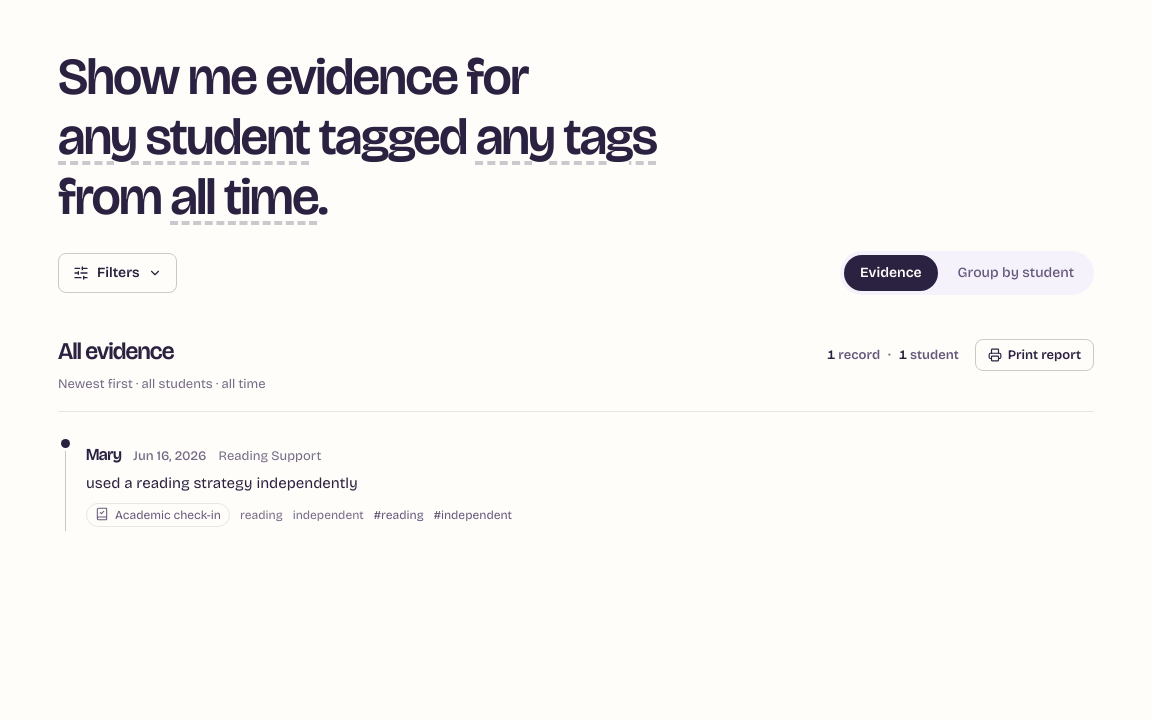
ExploreEvidencePage › collapses Without and returns focus to Tags
Click the button "Filters" at {"x": 117, "y": 273}, box [58,253,177,293]
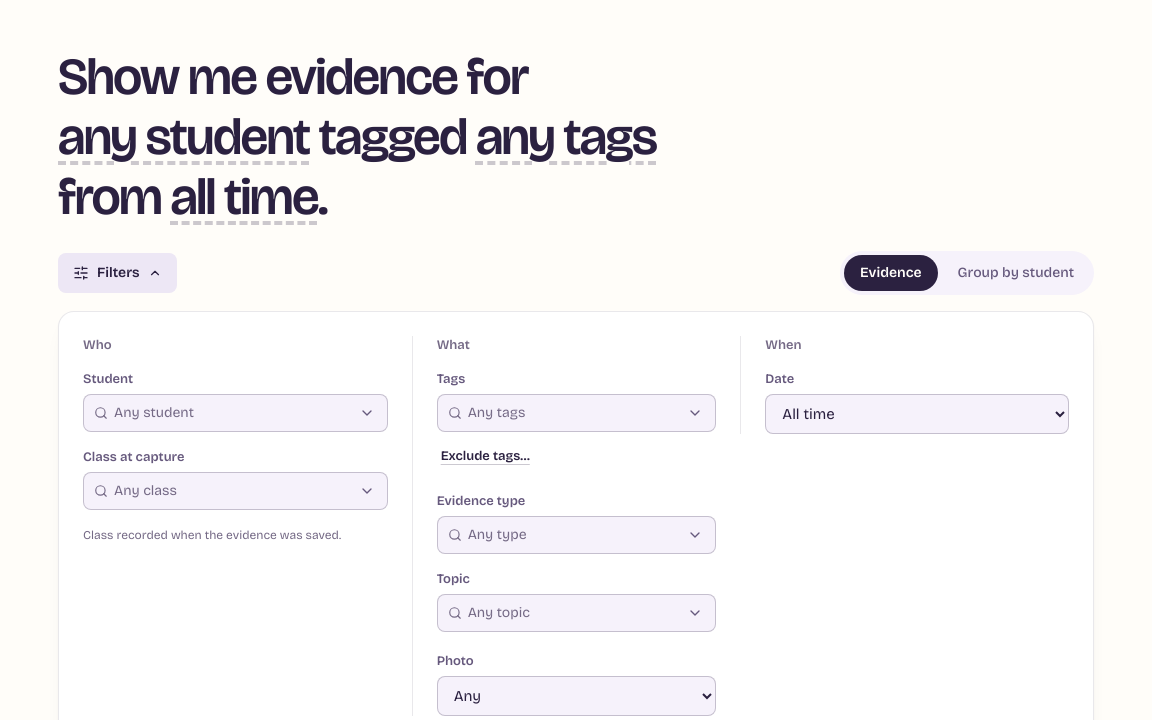
Click the button "Exclude tags…" at {"x": 485, "y": 456}, box [437,440,534,472]
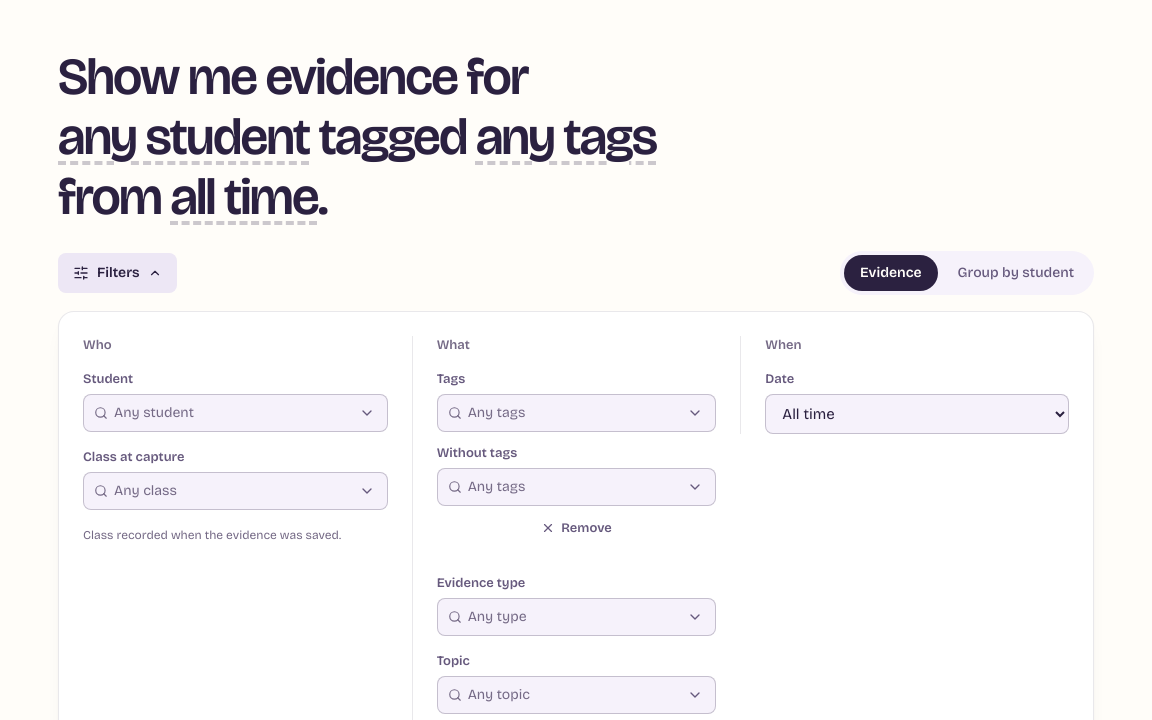
Click the button with aria-label "Remove without tags" at {"x": 577, "y": 528}, box [437,510,716,546]
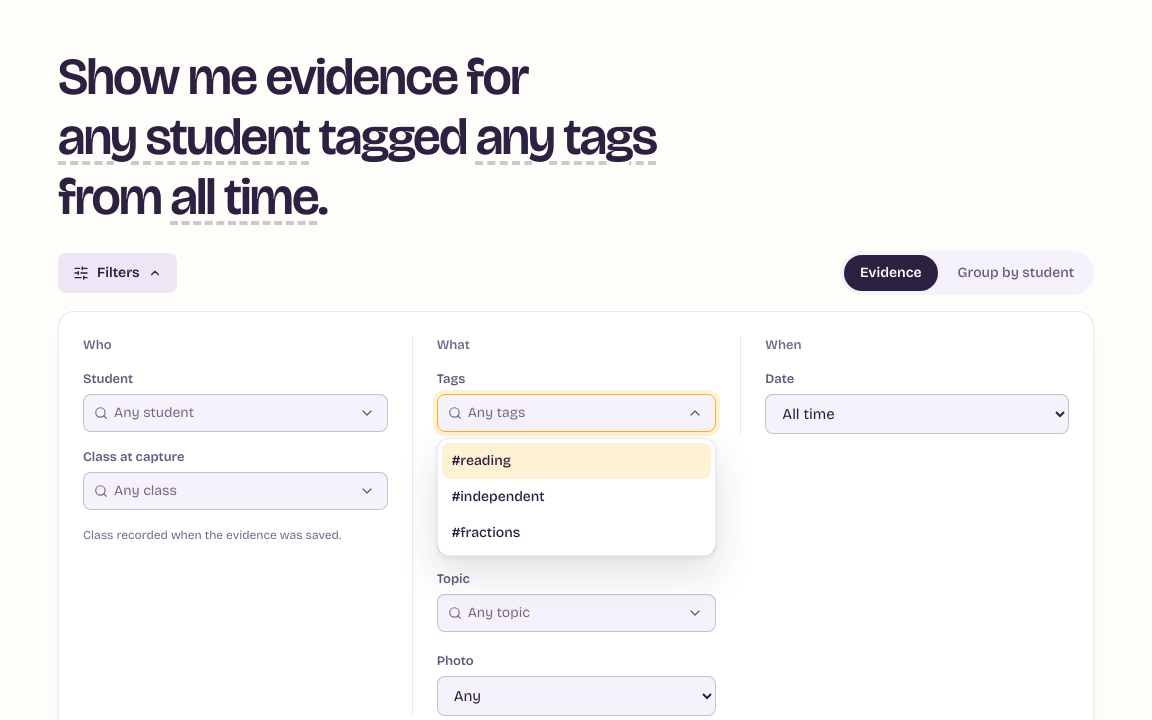
Expected: the label labelled "Without tags" is gone
